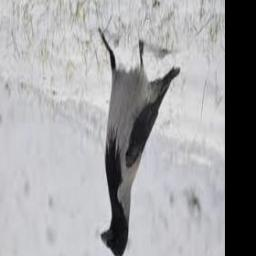Crow: (100, 29, 181, 256)
